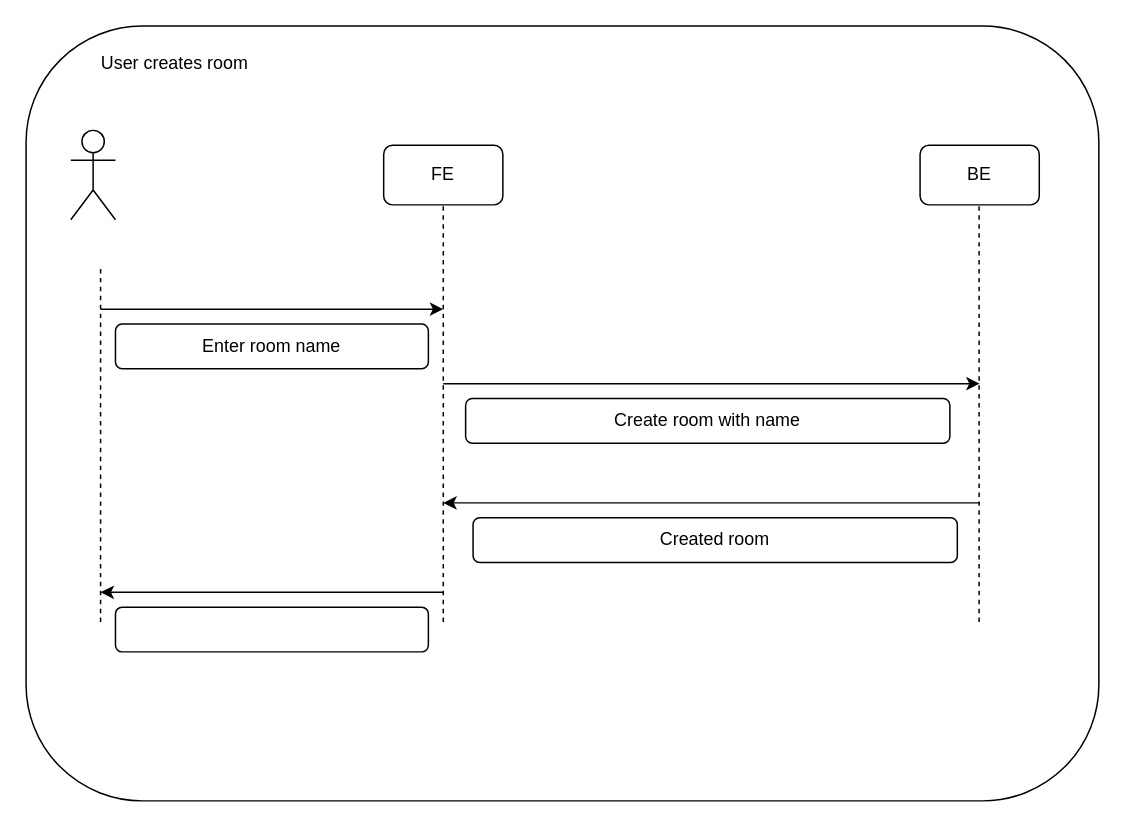
The diagram is 1125 pixels wide and 827 high, and some of its shapes have lost their labels. Here are the shapes that lost their labels. From the top down, the centre of each, then its label:
At pixel 92 174: "Actor".
At pixel 271 629: "Show room".
